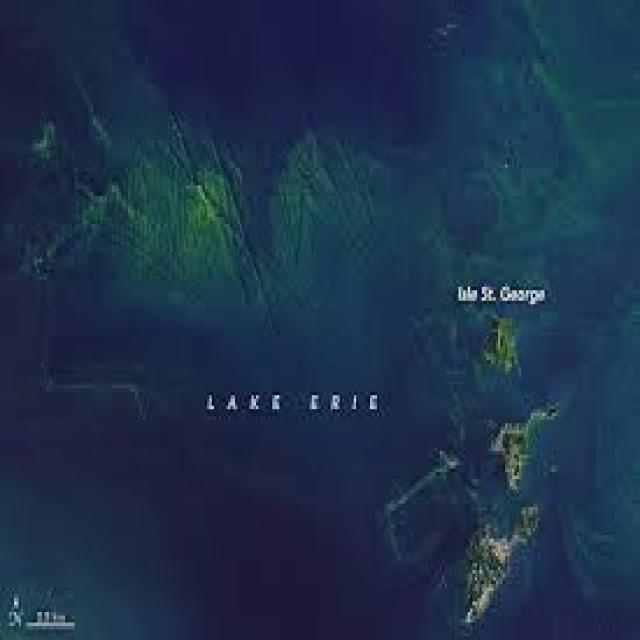algal: (21, 0, 637, 591)
